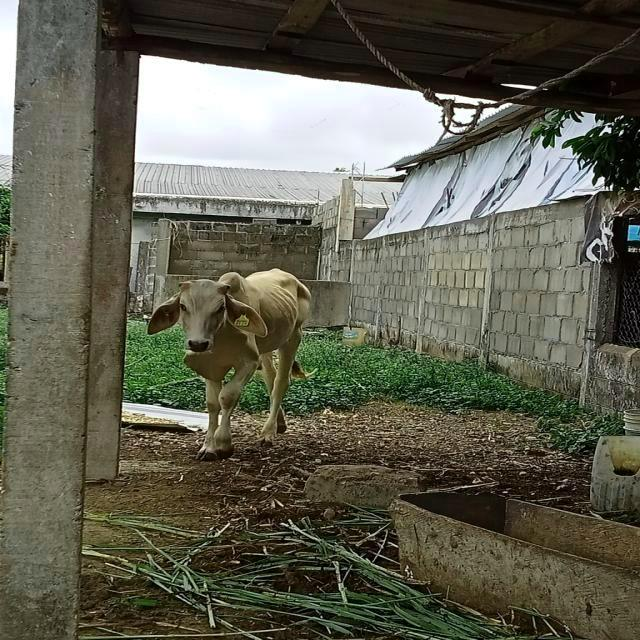COW: (149, 269, 310, 459)
